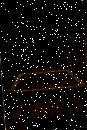Silla: (3, 2, 86, 129)
